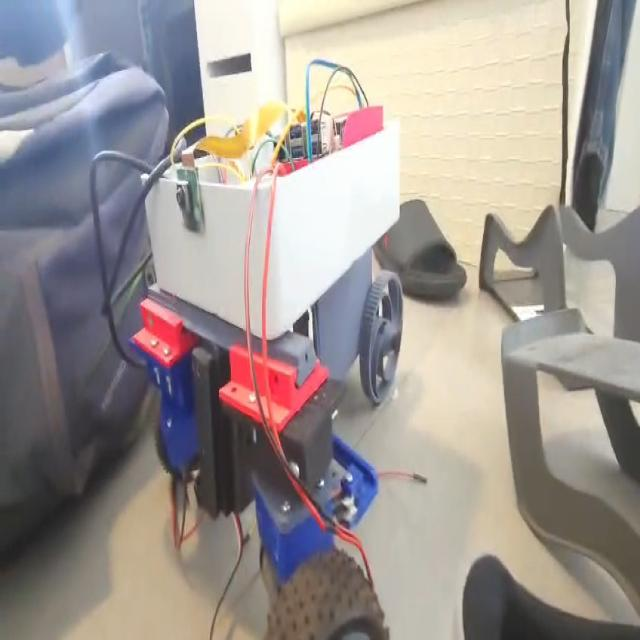Robot: (128, 102, 403, 640)
